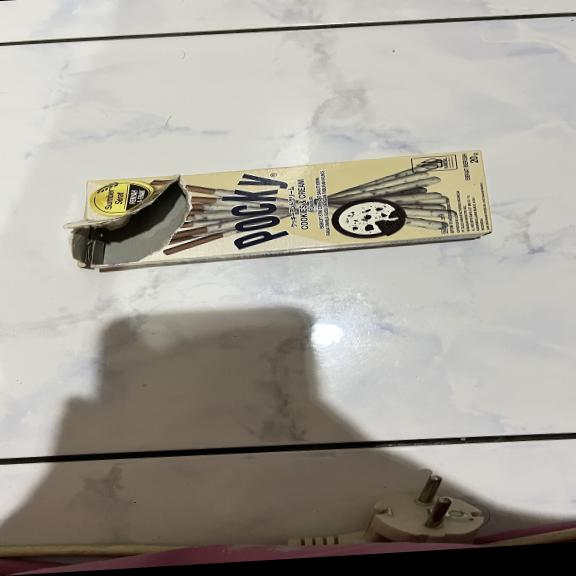Kertas: (79, 146, 491, 270)
